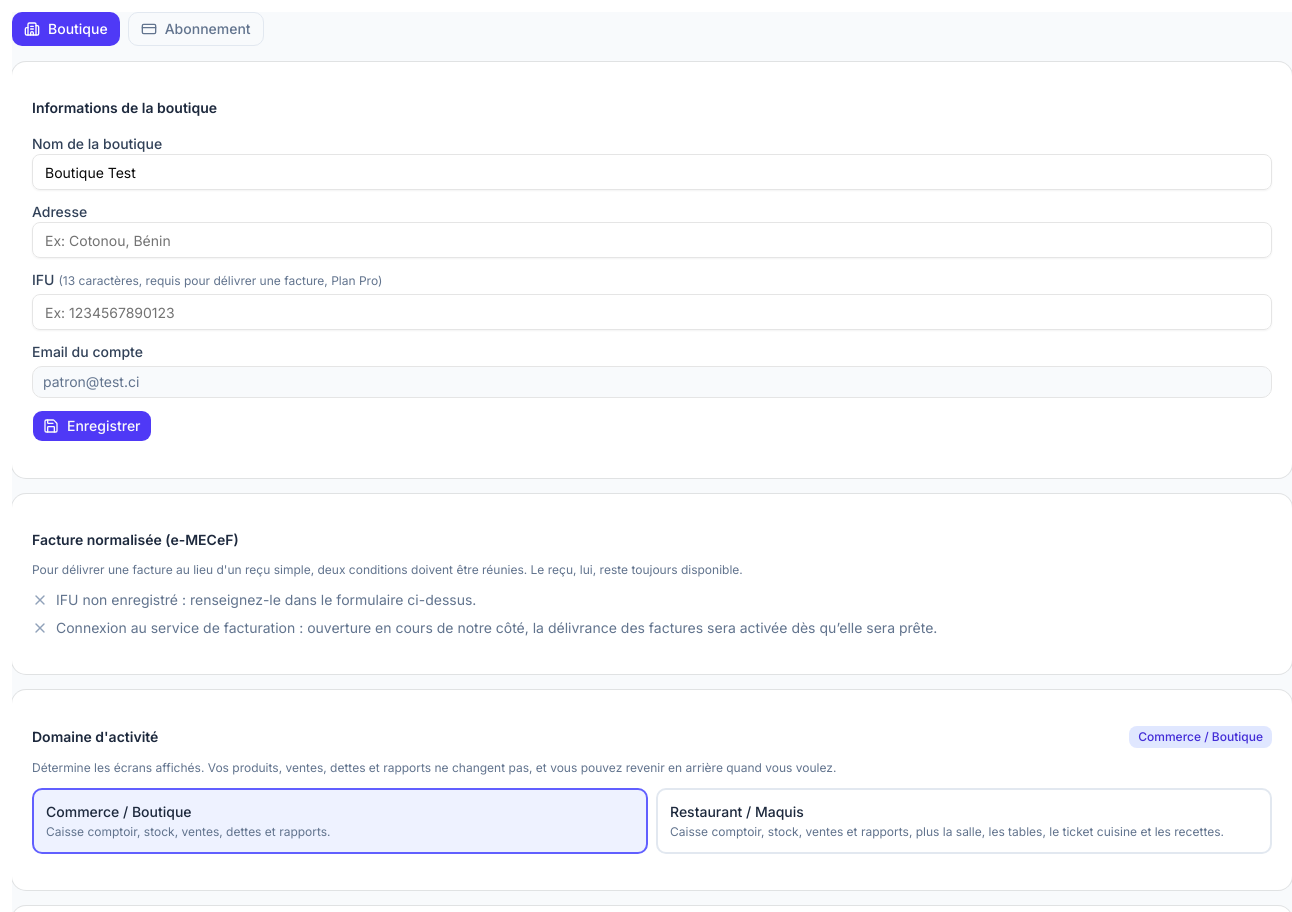
Test case: Boutique — IFU validé avant enregistrement › un IFU trop court est refusé, sans écriture en base
Type "123456789012" into the field labelled "IFU" at [652, 312], box [32,294,1272,330]
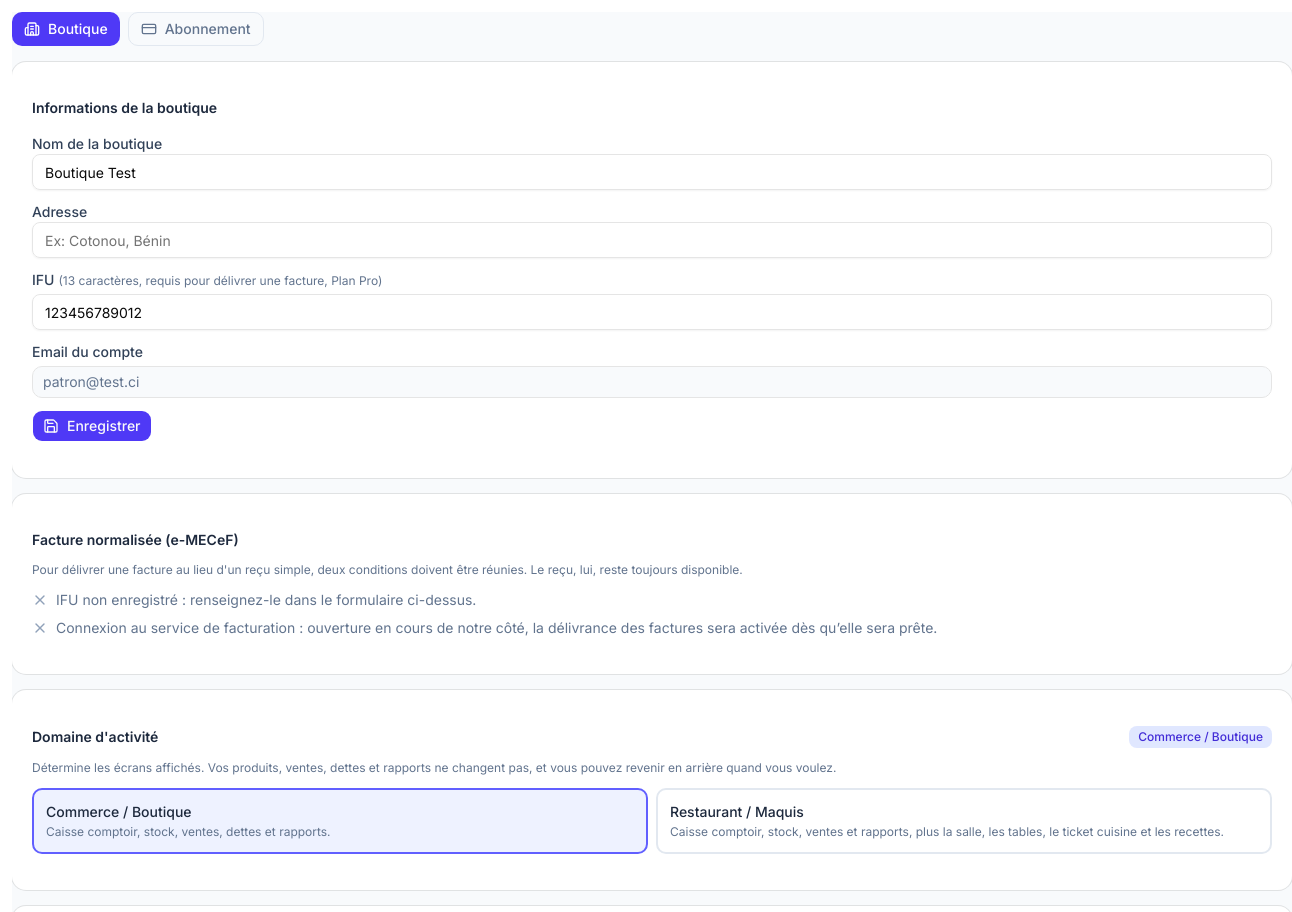
Click the button "Enregistrer" at [92, 426], box [32,410,152,442]
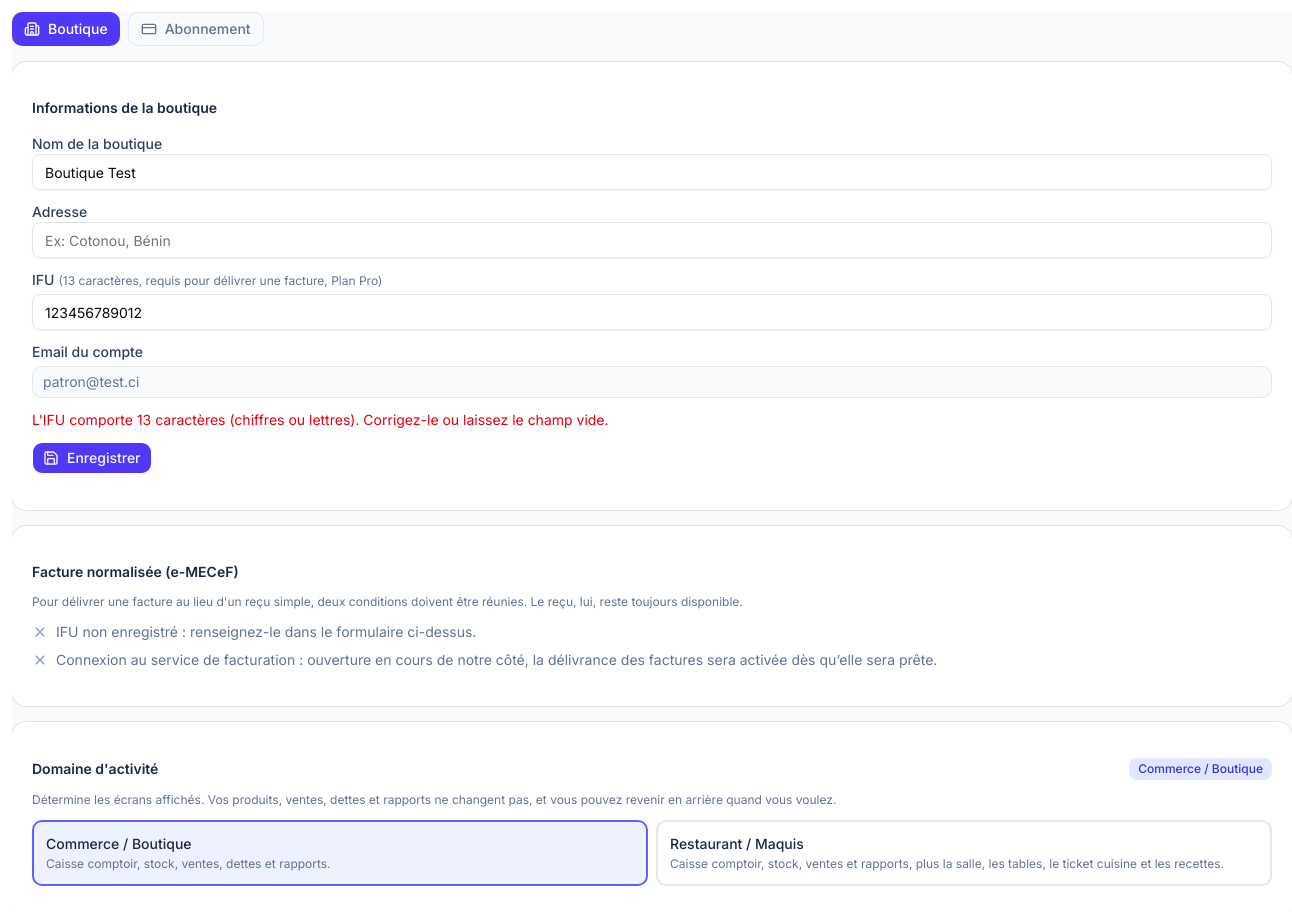
Result: the text "comporte 13 caractères" is shown at [32,411,609,428]
